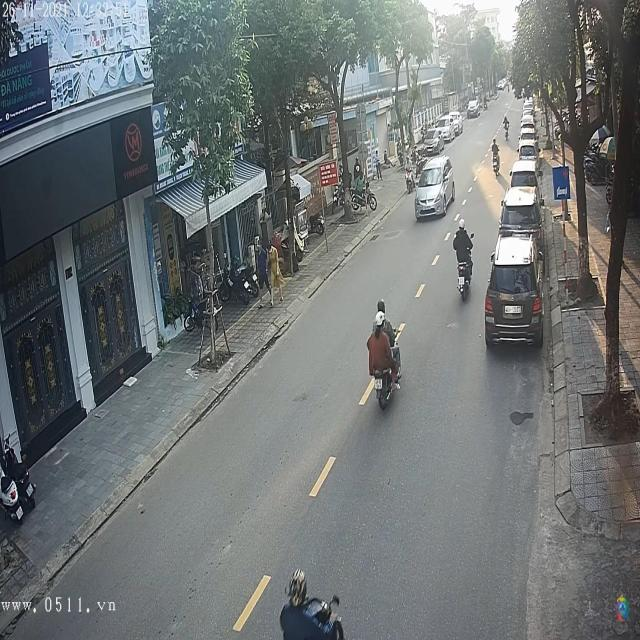car: (485, 232, 543, 347), (413, 157, 456, 223), (498, 190, 544, 238), (505, 160, 538, 199), (517, 144, 538, 164), (468, 98, 482, 118), (519, 124, 536, 139)
motorcycle: (371, 343, 404, 413), (450, 225, 475, 296)
